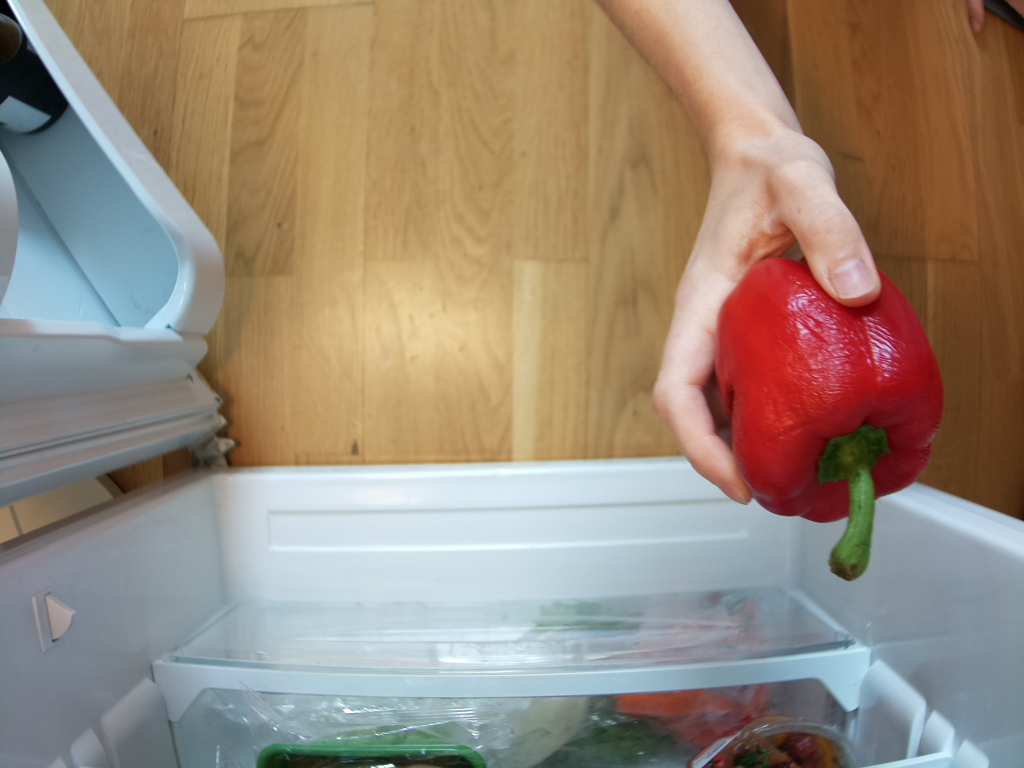pepper-bad: (706, 249, 948, 583)
